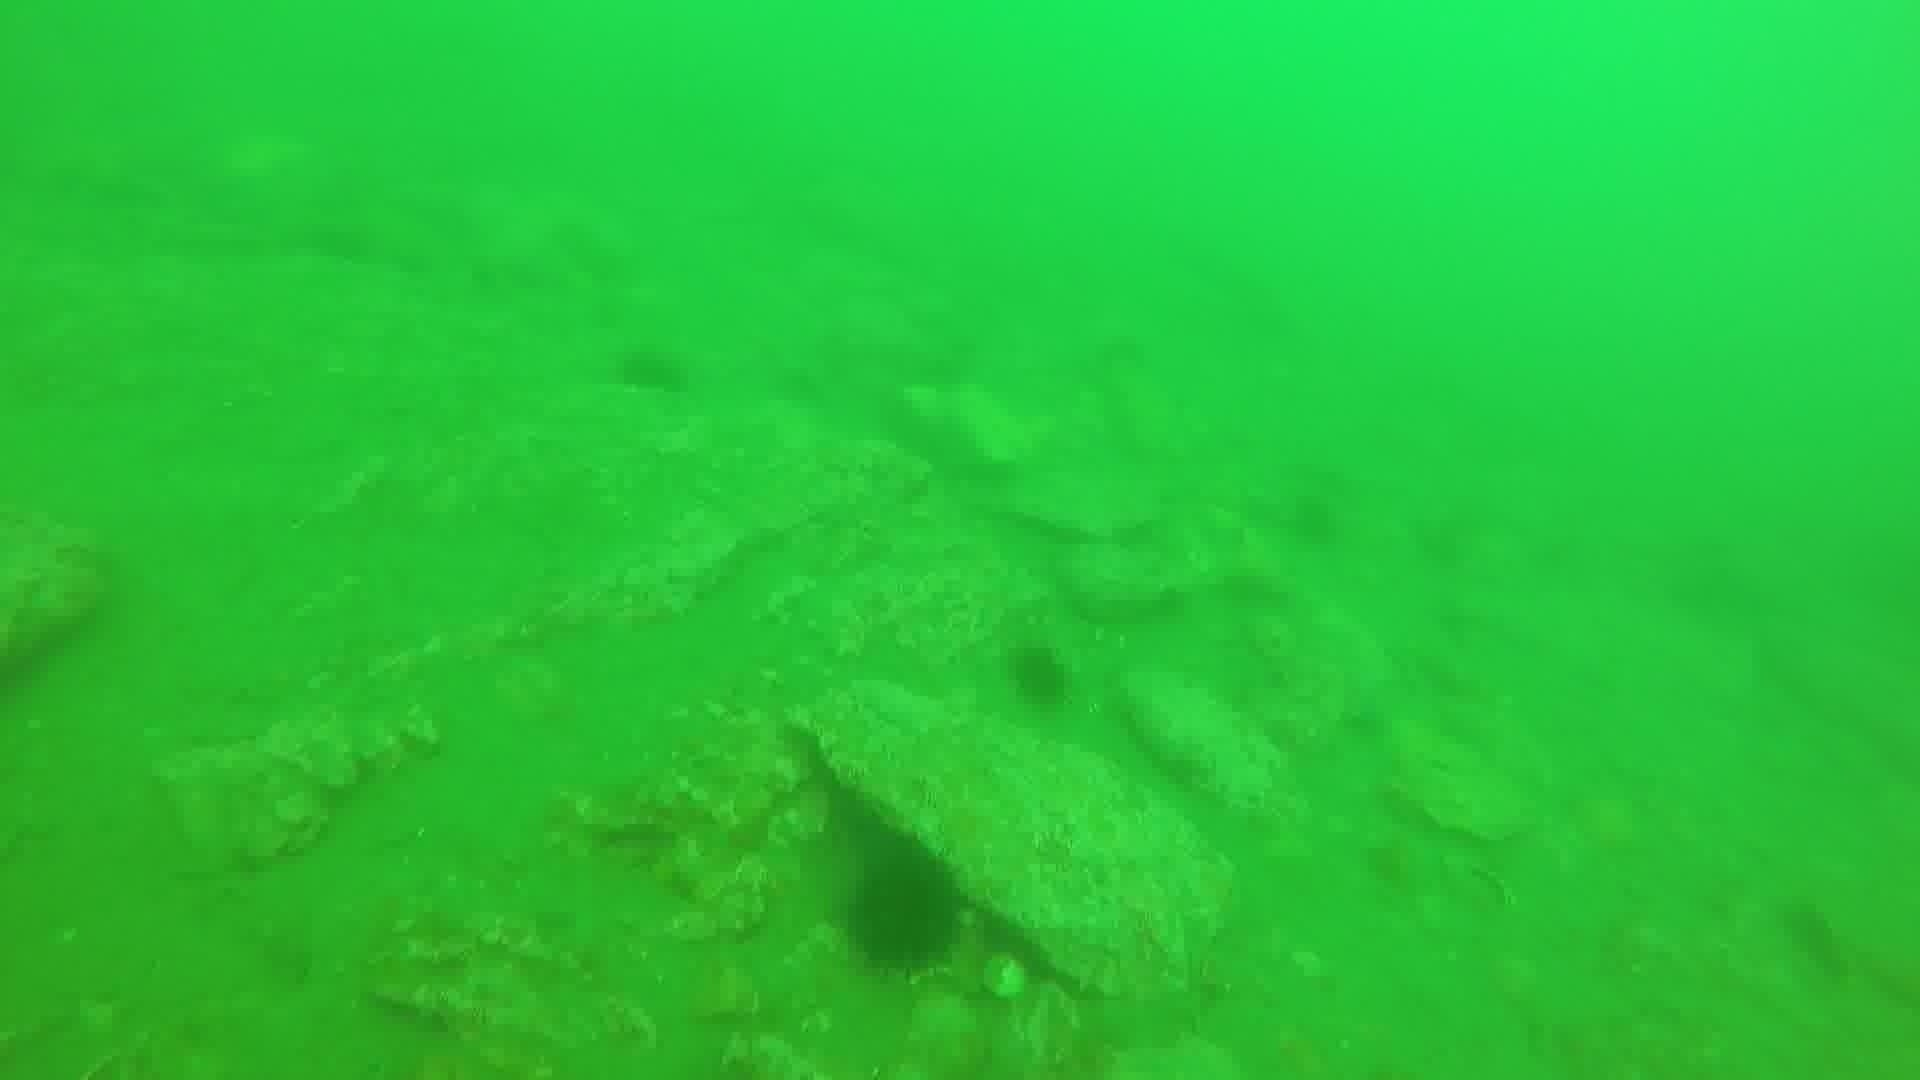echinus: (839, 849, 968, 978), (1001, 638, 1077, 712), (1269, 483, 1344, 556), (611, 340, 691, 400)
